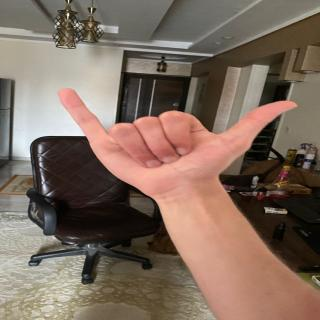YA: (48, 81, 320, 195)
